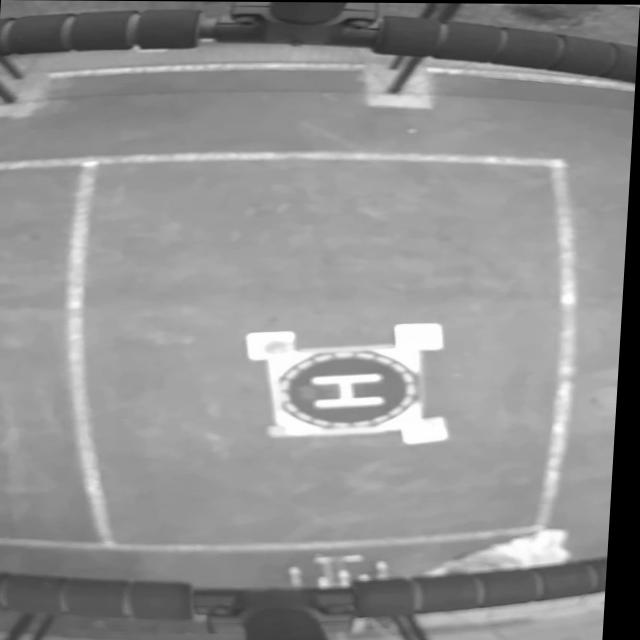Helipad: (314, 372, 389, 409)
